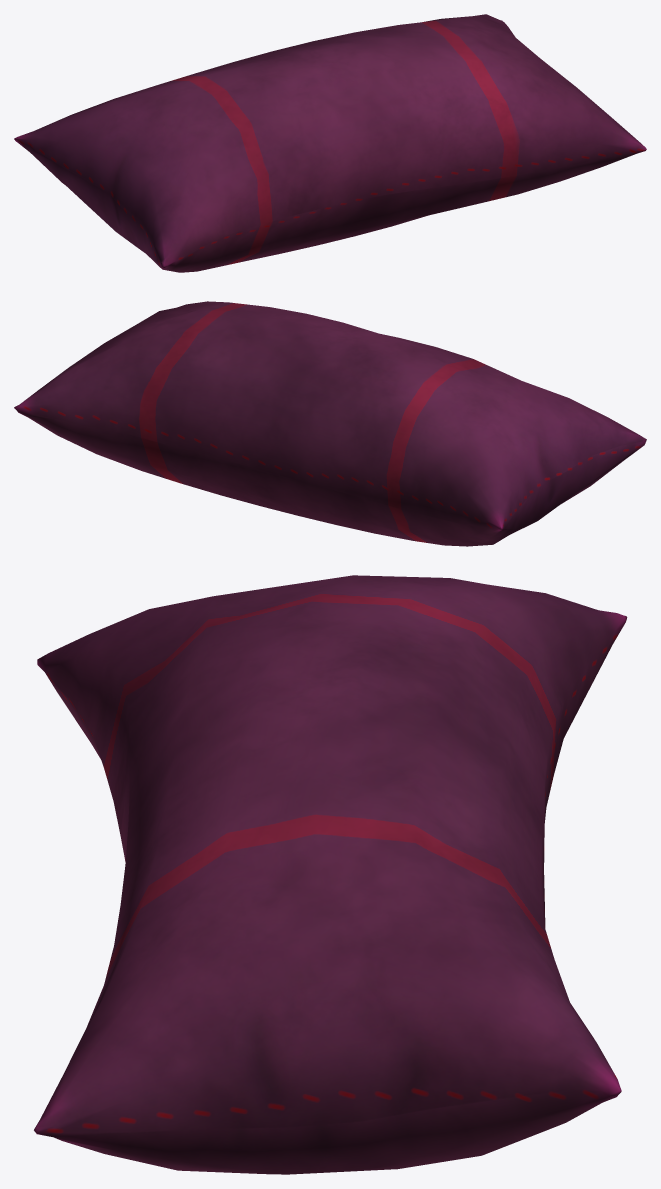
The model's file is SM_Pillow_06.fbx.
3 renders of one model, top to bottom at view 1: azimuth 30°, elevation 25°; view 2: azimuth 150°, elevation 25°; view 3: azimuth 270°, elevation 25°, orthographic. The views are drawn at different scales.
Visible parts, largest first — view 1: color_pillar_rectangle; view 2: color_pillar_rectangle; view 3: color_pillar_rectangle.
Boxes of the visible parts, bbox=[...] form: color_pillar_rectangle: bbox=[14, 14, 646, 272]; color_pillar_rectangle: bbox=[14, 301, 646, 546]; color_pillar_rectangle: bbox=[34, 575, 627, 1174].
Size of the model in its own units: 93.29 by 32.57 by 49.26.
